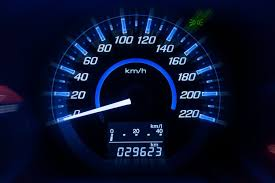Digital_Meter: (106, 124, 167, 159)
